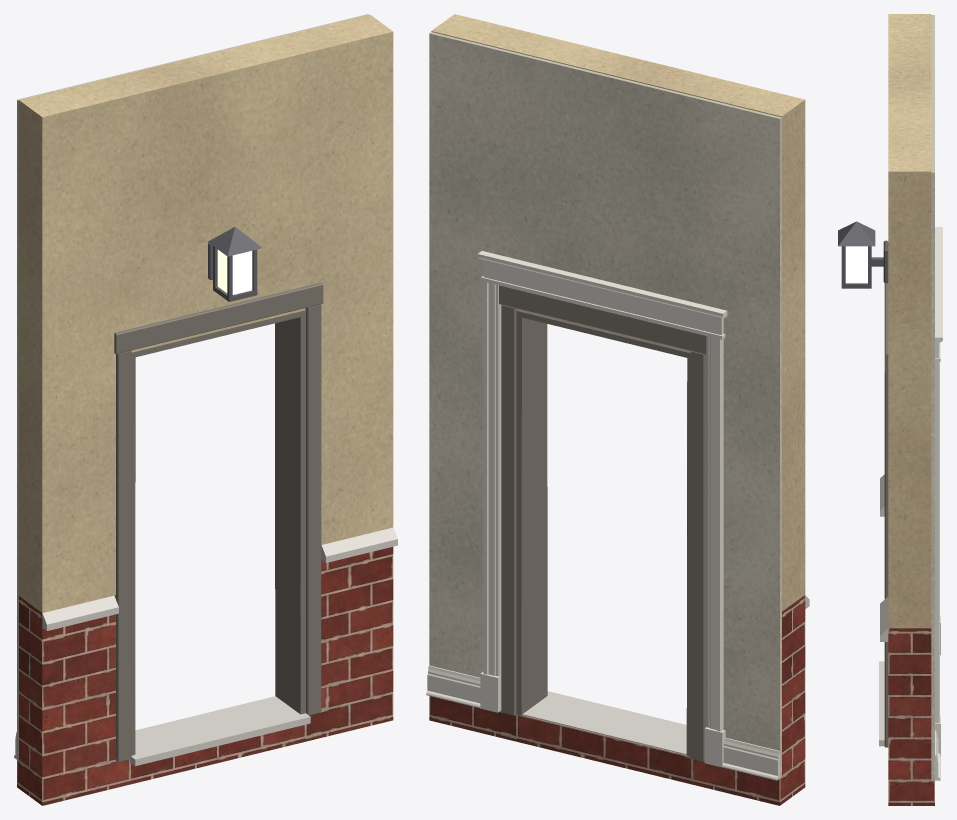
File: w_bdoor.glb
3 views of the same model, side by side, from view 1: azimuth 30°, elevation 25°; view 2: azimuth 150°, elevation 25°; view 3: azimuth 270°, elevation 25° (orthographic). The views are drawn at different scales.
Parts seen in each view (by area): view 1: w_bdoor_render, w_bdoor_brick, w_bdoor_frame, w_bdoor_cill, w_bdoor_iron, w_bdoor_plaster, w_bdoor_lamp_glass; view 2: w_bdoor_plaster, w_bdoor_frame, molduras, w_bdoor_render, w_bdoor_brick, w_bdoor_cill; view 3: w_bdoor_render, w_bdoor_brick, molduras, w_bdoor_plaster, w_bdoor_frame, w_bdoor_iron, w_bdoor_cill, w_bdoor_lamp_glass.
Boxes of the visible parts, x1,y1,x2,y2 form: w_bdoor_render: (19, 14, 393, 612); w_bdoor_brick: (17, 547, 393, 805); w_bdoor_frame: (114, 282, 323, 761); w_bdoor_cill: (42, 527, 397, 766); w_bdoor_iron: (208, 227, 262, 301); w_bdoor_plaster: (17, 14, 368, 760); w_bdoor_lamp_glass: (217, 249, 252, 294); w_bdoor_plaster: (429, 32, 781, 777); w_bdoor_frame: (499, 285, 706, 761); molduras: (426, 251, 779, 780); w_bdoor_render: (431, 14, 805, 611); w_bdoor_brick: (429, 595, 805, 805); w_bdoor_cill: (522, 595, 809, 755); w_bdoor_render: (888, 14, 931, 628); w_bdoor_brick: (888, 628, 934, 805); molduras: (935, 227, 942, 780); w_bdoor_plaster: (931, 15, 934, 780); w_bdoor_frame: (884, 282, 888, 747); w_bdoor_iron: (838, 221, 888, 288); w_bdoor_cill: (879, 474, 888, 746); w_bdoor_lamp_glass: (845, 246, 867, 283).
Bounding box in the file's own units: 2 × 3.75 × 0.562.
8 materials, 3 textured.
